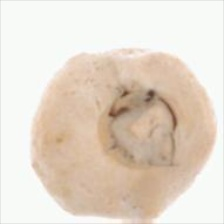L3: (99, 85, 179, 169)
L4: (30, 47, 217, 223)
